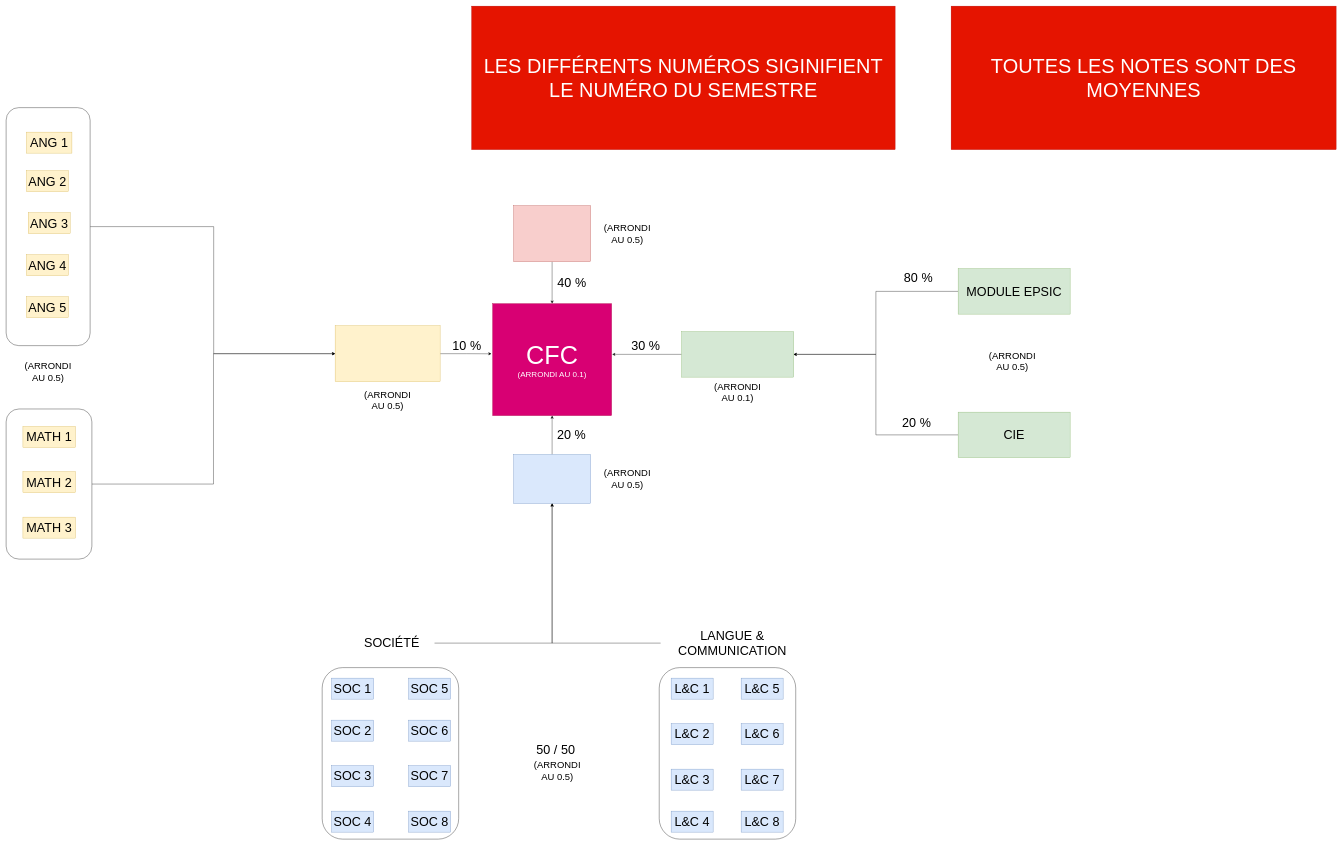
Some shapes in this 1342 by 845 pixel diagram are drawn without their labels. Here are the shapes that lost their labels. From the top down, the box of each, then its label:
(513, 205, 591, 262): TPI
(335, 325, 440, 382): COMPÉTENCES DE BASE ÉLARGIE
(681, 331, 794, 377): COMPÉTENCES INFORMATIQUE
(513, 454, 591, 503): CULTURE GÉNÉRALE
